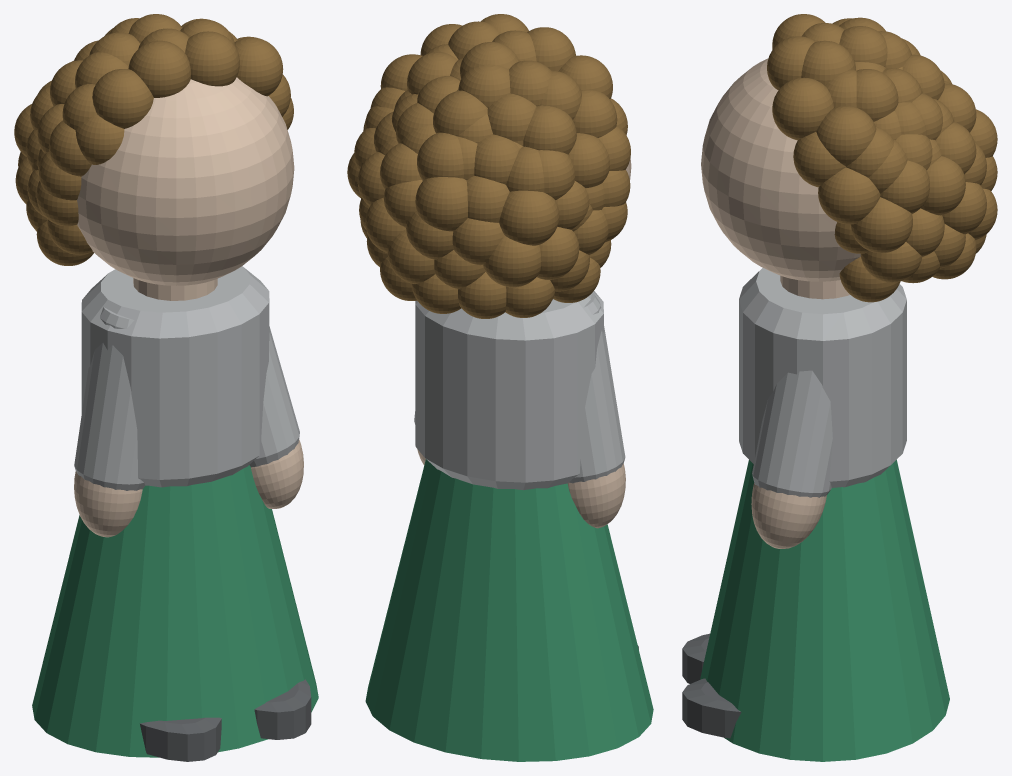
The model's file is avatar.glb.
The picture shows the model from 3 angles, left to right: view 1: azimuth 30°, elevation 25°; view 2: azimuth 150°, elevation 25°; view 3: azimuth 270°, elevation 25°; orthographic projection.
Parts seen in each view (by area): view 1: Mesh_Mesh_head_geo.001_lambert2SG.001; view 2: Mesh_Mesh_head_geo.001_lambert2SG.001; view 3: Mesh_Mesh_head_geo.001_lambert2SG.001.
Boxes of the visible parts, left/top/right/bottom form: Mesh_Mesh_head_geo.001_lambert2SG.001: left=14, top=14, right=318, bottom=761; Mesh_Mesh_head_geo.001_lambert2SG.001: left=347, top=14, right=653, bottom=761; Mesh_Mesh_head_geo.001_lambert2SG.001: left=682, top=14, right=997, bottom=761.
Bounding box in the file's own units: 14.05 × 35 × 14.92.
